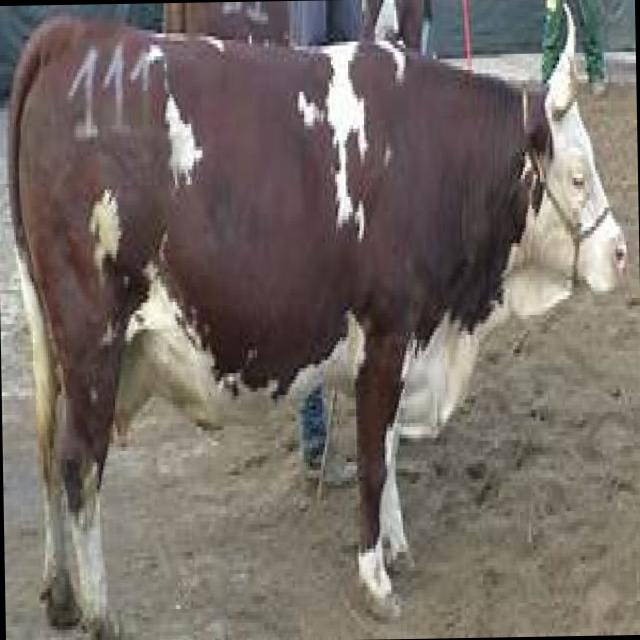animal: (1, 0, 633, 637)
